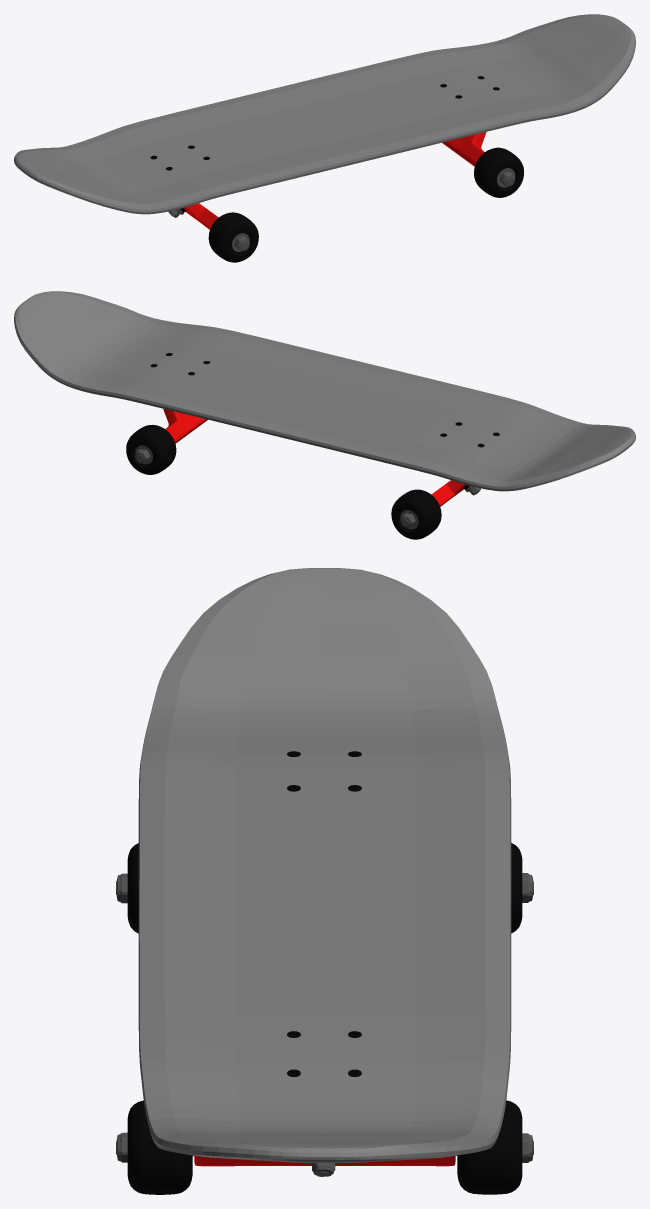
The model's file is skateboard.FBX.
The picture shows the model from 3 angles, top to bottom: view 1: azimuth 30°, elevation 25°; view 2: azimuth 150°, elevation 25°; view 3: azimuth 270°, elevation 25°; orthographic projection. The views are drawn at different scales.
Visible parts, largest first — view 1: skateboard; view 2: skateboard; view 3: skateboard.
Part boxes in pixels (box(x1,y1,x2,y2)): skateboard: box(14, 14, 635, 262); skateboard: box(14, 291, 635, 539); skateboard: box(116, 568, 533, 1194).
Size of the model in its own units: 749 by 121 by 226.
